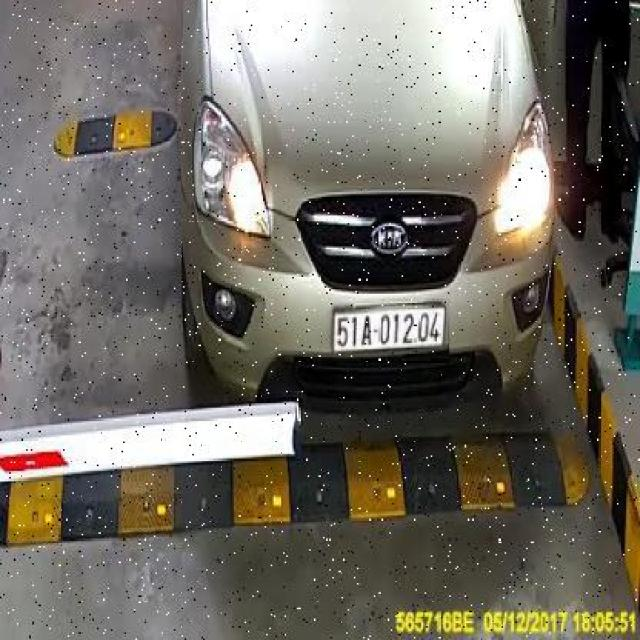number_plate: (326, 299, 449, 363)
